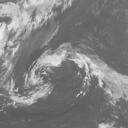cyclone: (28, 46, 90, 100)
